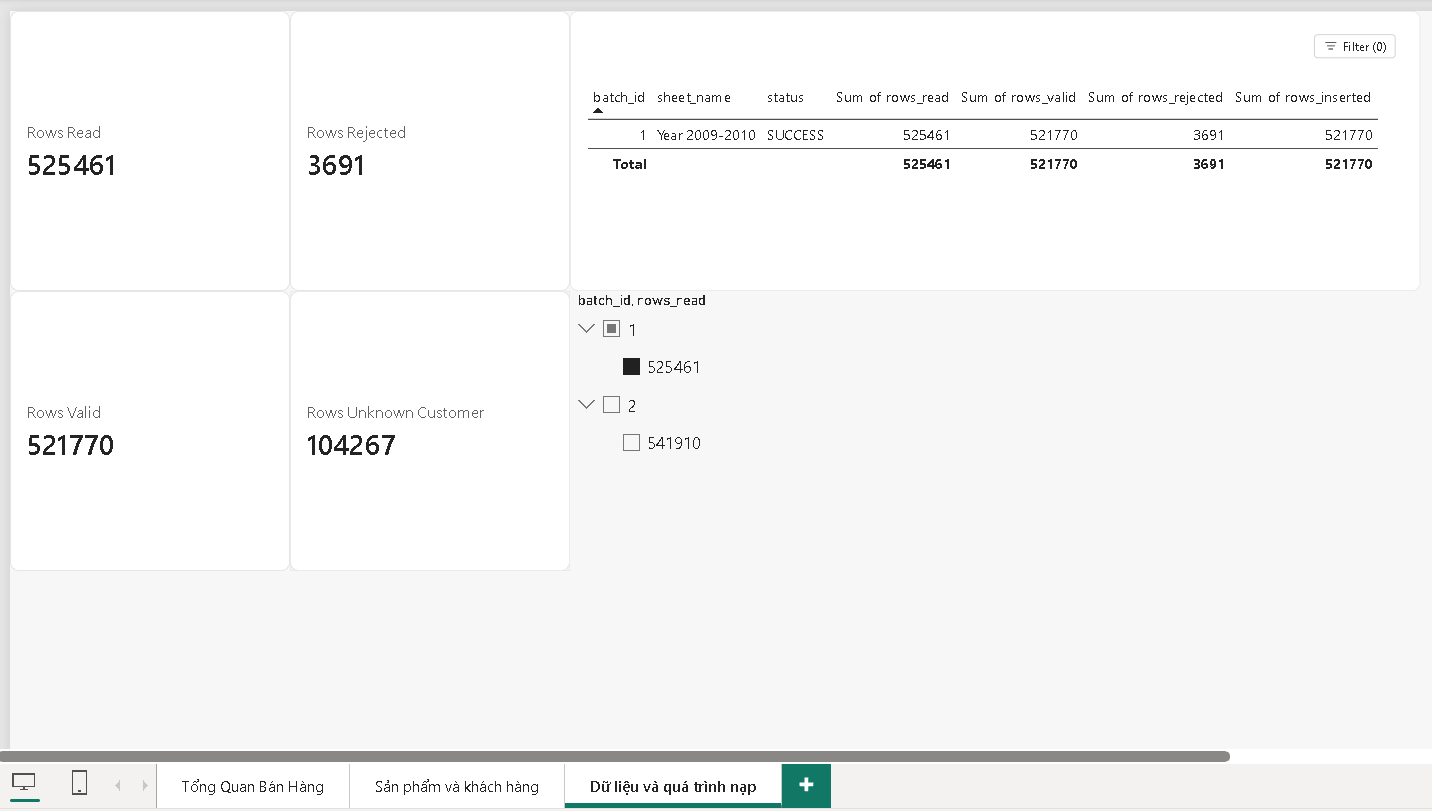

The dashboard page shown, as its layout file describes it:
{"tool":"powerbi","page":{"name":"Dữ liệu và quá trình nạp","canvas":[1920,1080],"ordinal":2},"visuals":[{"type":"cardVisual","fields":{"Data":["dim_country.Rows Unknown Customer"]},"box":[10,870,280,210],"z":0},{"type":"cardVisual","fields":{"Data":["dim_country.Rows Read"]},"box":[0,0,280,280],"z":1000},{"type":"cardVisual","fields":{"Data":["dim_country.Rows Rejected"]},"box":[0,290,280,280],"z":2000},{"type":"cardVisual","fields":{"Data":["dim_country.Rows Valid"]},"box":[0,580,280,280],"z":3000},{"type":"tableEx","fields":{"Values":["etl_batch.batch_id","etl_batch.sheet_name","etl_batch.status","Sum(etl_batch.rows_read)","Sum(etl_batch.rows_valid)","Sum(etl_batch.rows_rejected)","Sum(etl_batch.rows_inserted)"]},"box":[280,0,850,280],"z":4000},{"type":"slicer","fields":{"Values":["etl_batch.batch_id","etl_batch.rows_read"]},"box":[280,290,850,280],"z":4001}]}

Visuals, with their boxes on the page's 1920x1080 design canvas (x1, y1, x2, y2). These are canvas units, not pixel positions in the 1432x811 screenshot, which may show the page scaled, cropped or inside an application window:
cardVisual - dim_country.Rows Unknown Customer: [x1=10, y1=870, x2=290, y2=1080]
cardVisual - dim_country.Rows Read: [x1=0, y1=0, x2=280, y2=280]
cardVisual - dim_country.Rows Rejected: [x1=0, y1=290, x2=280, y2=570]
cardVisual - dim_country.Rows Valid: [x1=0, y1=580, x2=280, y2=860]
tableEx - etl_batch.batch_id x etl_batch.sheet_name: [x1=280, y1=0, x2=1130, y2=280]
slicer - etl_batch.batch_id x etl_batch.rows_read: [x1=280, y1=290, x2=1130, y2=570]
